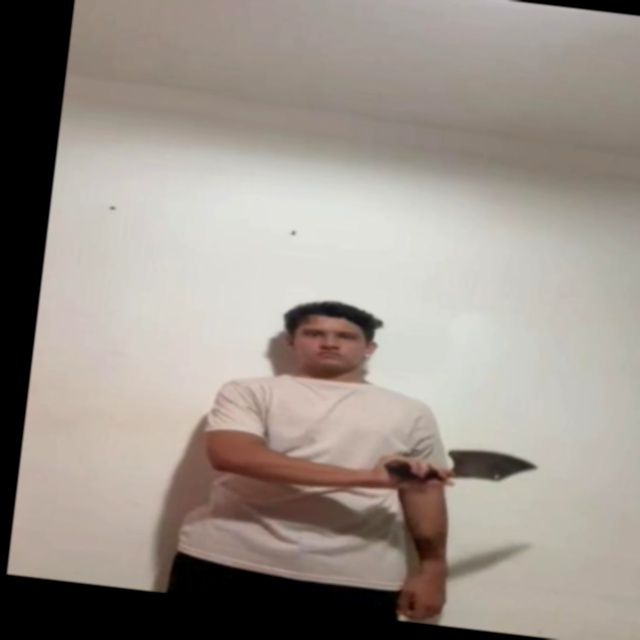Sharp-Object: (440, 445, 538, 486)
